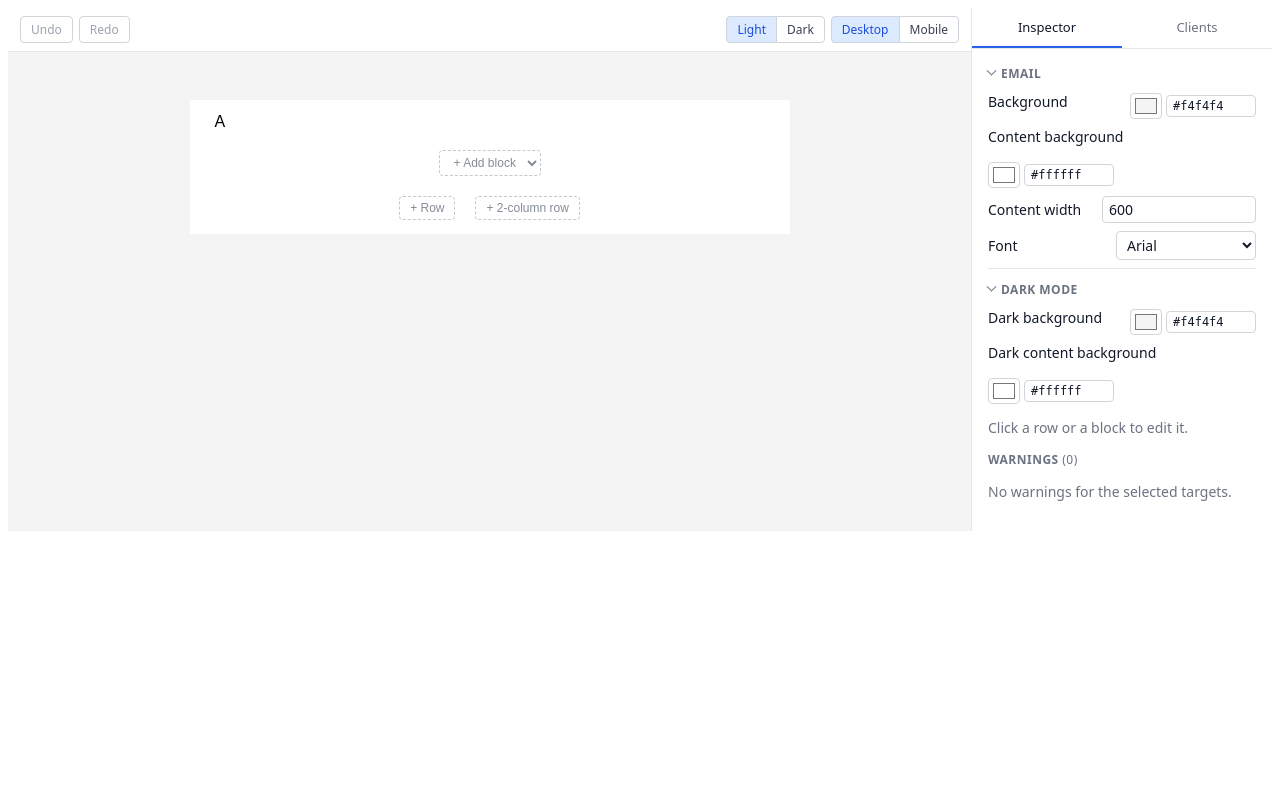
Test: <MailBlocks /> more columns › offers a four-column layout
Click the element with class "mb-row" at coordinates (378, 144), box [214,113,540,176]
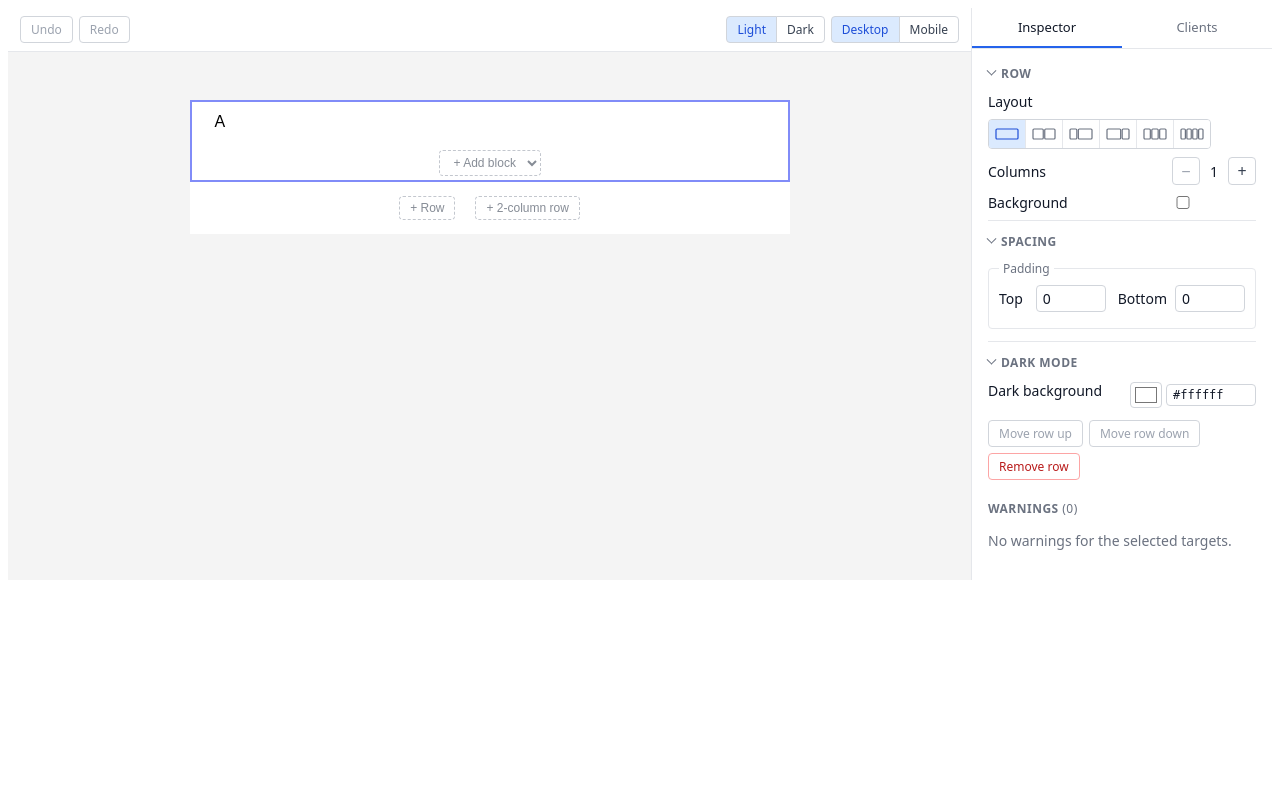
Click the radio button named "4 columns" at coordinates (1192, 134), box [1173,120,1210,148]
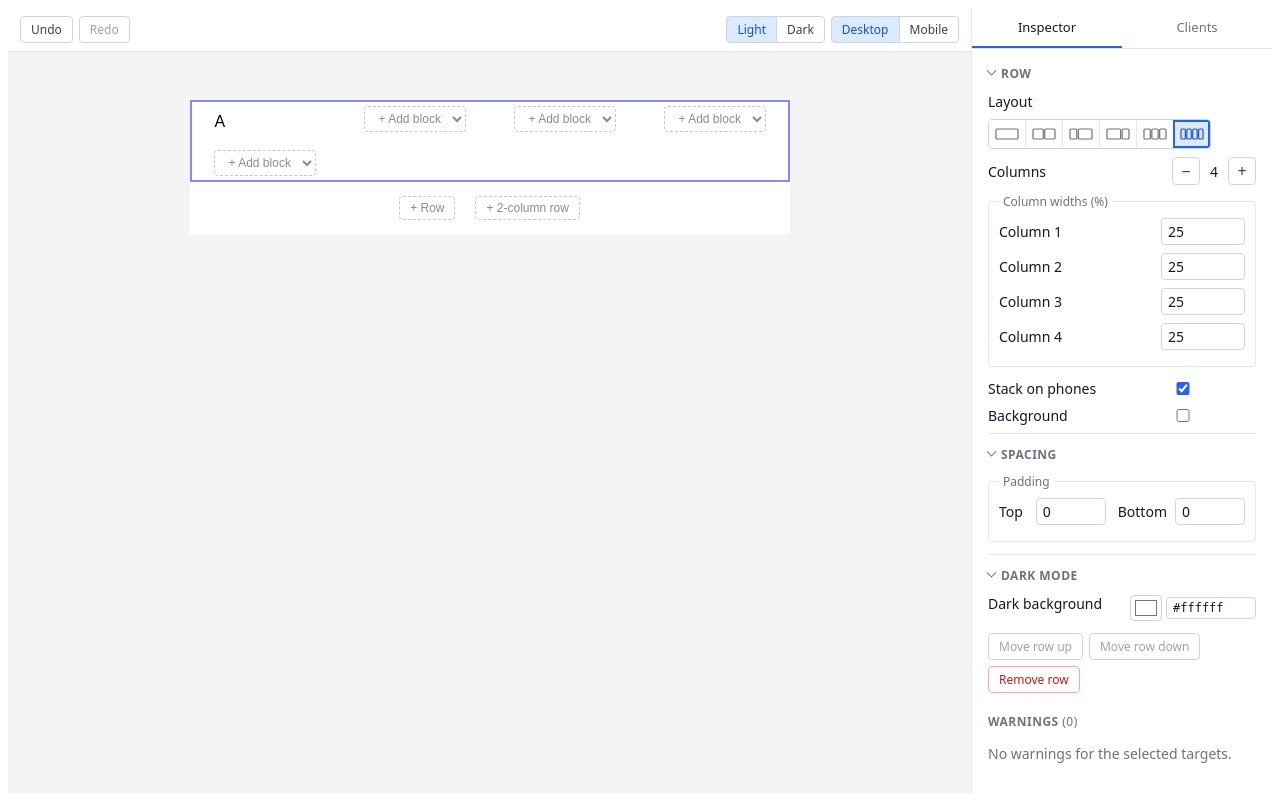
Expected: the number of elements with class "mb-column" is 4, [214,113,316,176]; [364,106,466,132]; [514,106,616,132]; [664,106,766,132]
